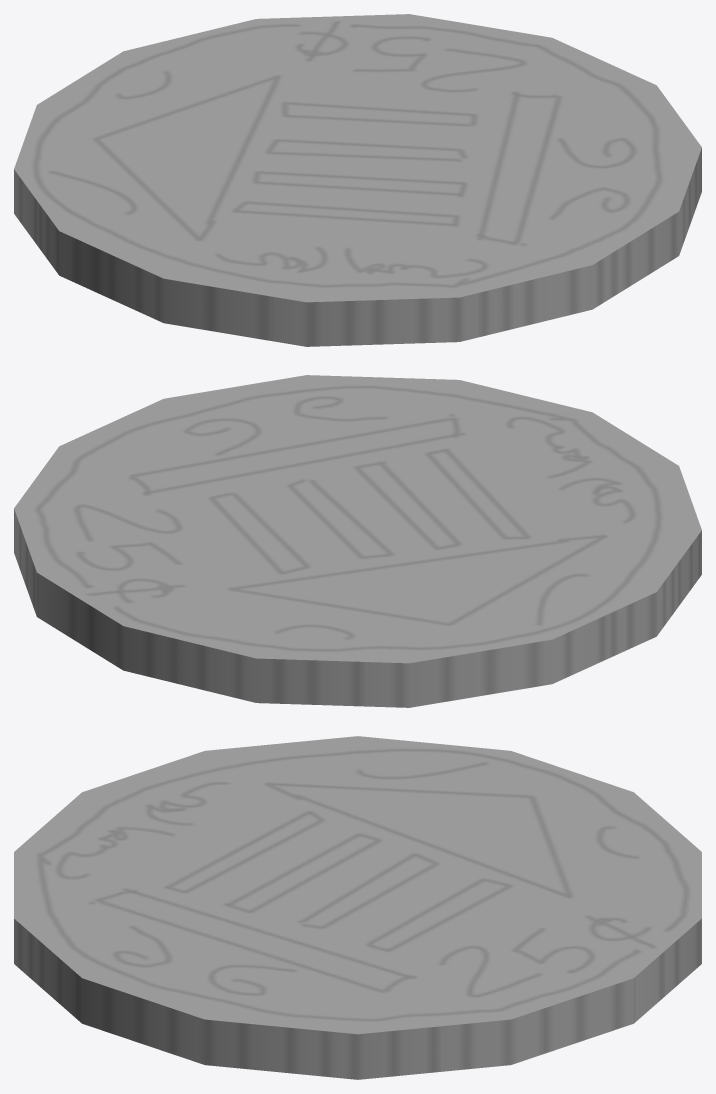
The model's file is CoinModel.fbx.
The picture shows the model from 3 angles, top to bottom: view 1: azimuth 30°, elevation 25°; view 2: azimuth 150°, elevation 25°; view 3: azimuth 270°, elevation 25°; orthographic projection. The views are drawn at different scales.
Visible parts, largest first — view 1: pCylinder4; view 2: pCylinder4; view 3: pCylinder4.
Part boxes in pixels (x1,y1,x2,y2): pCylinder4: (14, 14, 701, 346); pCylinder4: (14, 375, 701, 707); pCylinder4: (14, 736, 701, 1079).
Size of the model in its own units: 0.00563 by 0.000401 by 0.00549.
